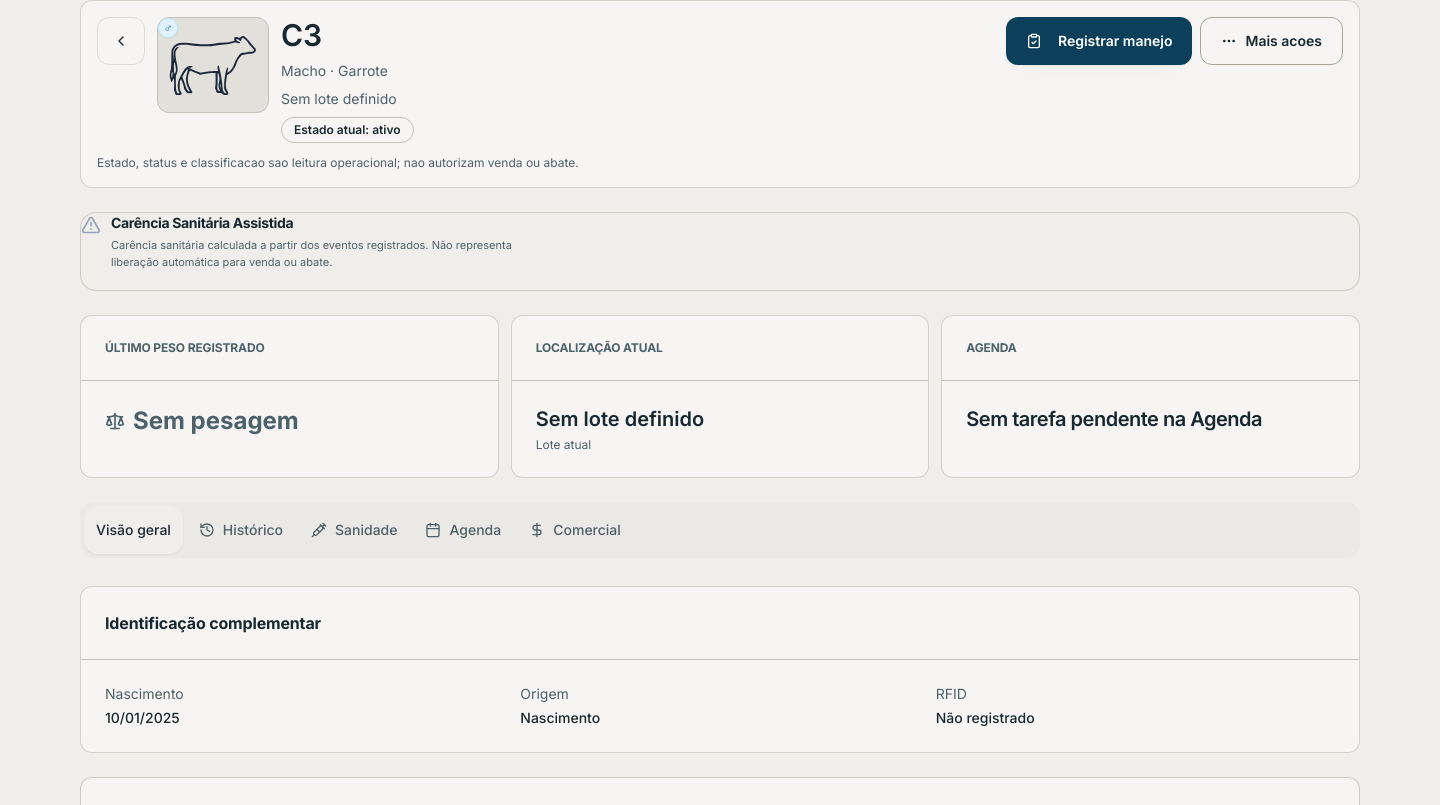
Test: AnimalDetalhe › histórico geral não apresenta simulação como venda executada
Click the tab "Histórico" at (241,530), box [187,506,295,554]
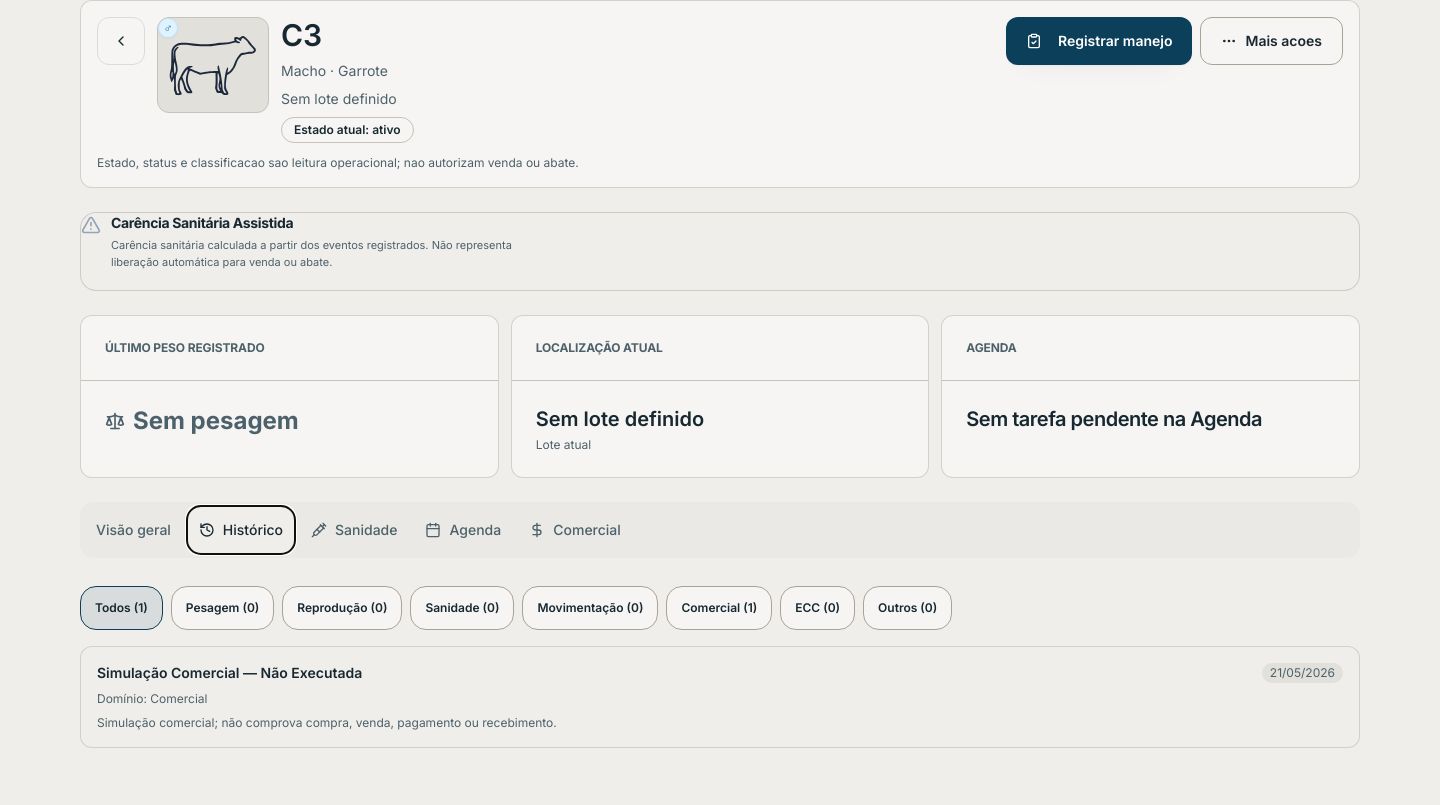
Expected: the heading "Simulação comercial — não executada" is shown, [97,663,362,683]
